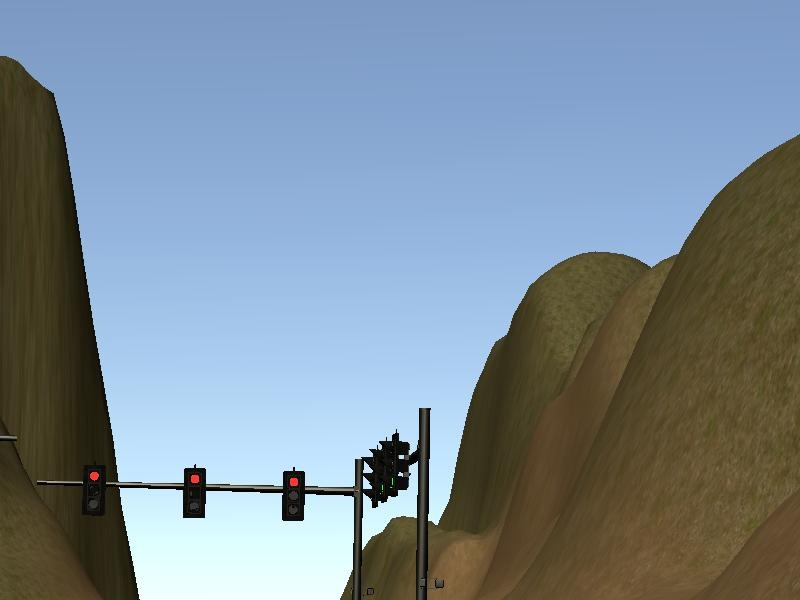traffic_light_red: (61, 460, 353, 523)
